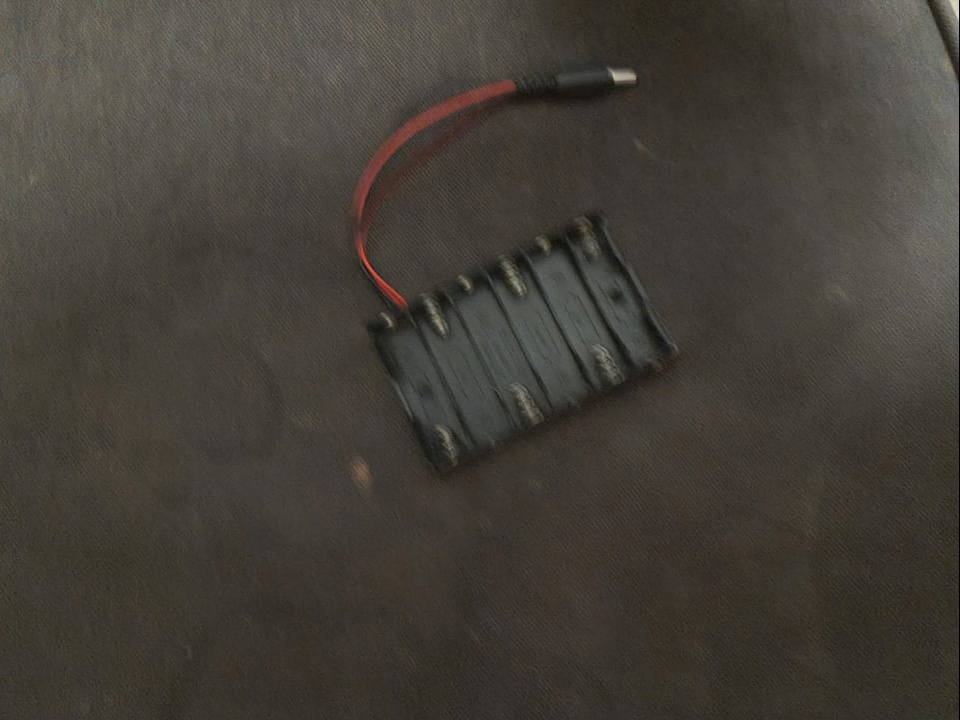BATTERY BOX: (361, 225, 698, 453)
